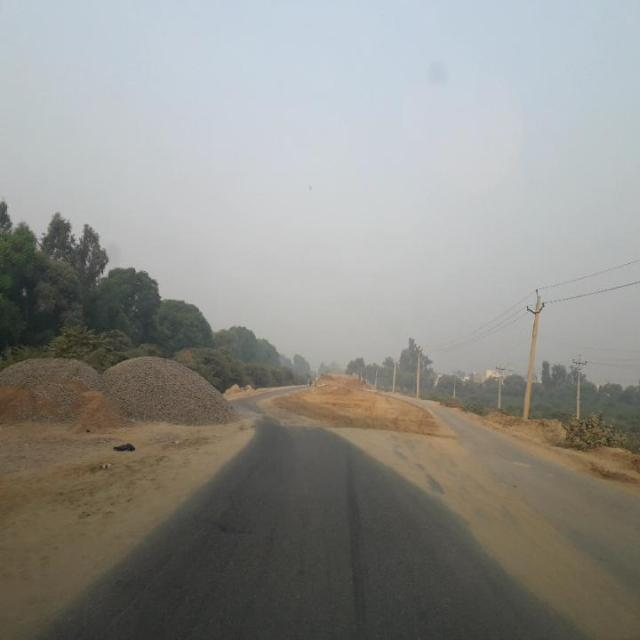Surface Erosion: (279, 368, 593, 609)
